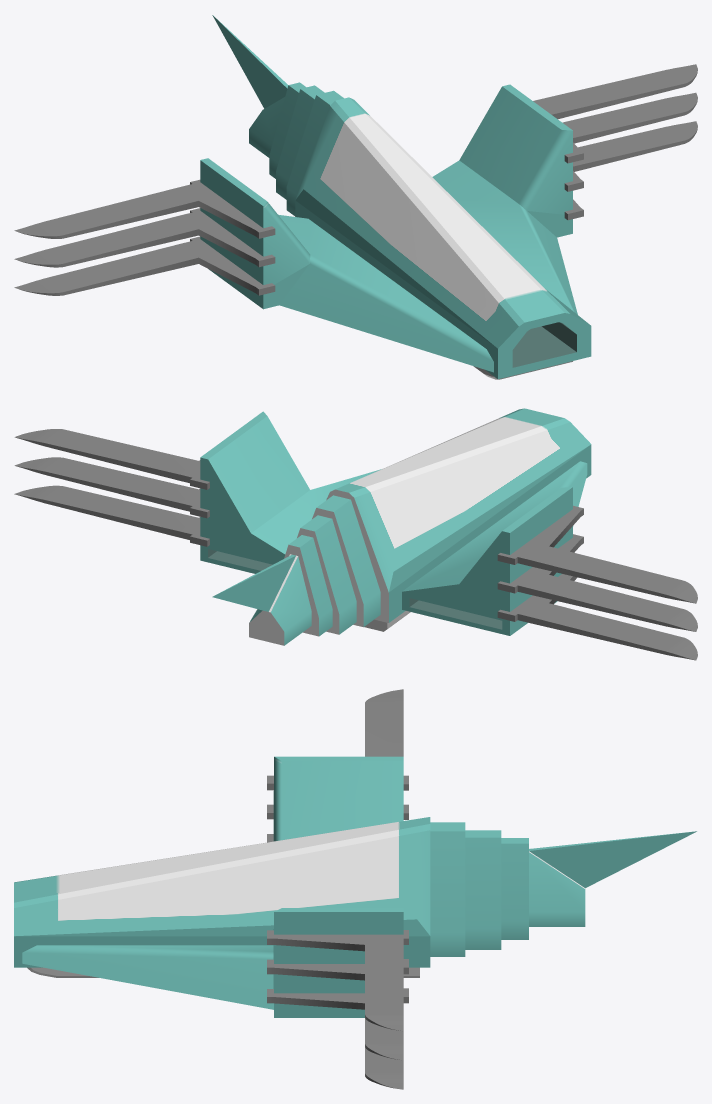
The model's file is fzerocar.fbx.
The picture shows the model from 3 angles, top to bottom: view 1: azimuth 30°, elevation 25°; view 2: azimuth 150°, elevation 25°; view 3: azimuth 270°, elevation 25°; orthographic projection. The views are drawn at different scales.
Visible parts, largest first — view 1: fzerocar, wepR, wepL; view 2: fzerocar, wepR, wepL; view 3: fzerocar, wepL, wepR.
Boxes of the visible parts, x1=… form: fzerocar: x1=200, y1=15, x2=591, y2=379; wepR: x1=14, y1=179, x2=275, y2=295; wepL: x1=533, y1=64, x2=697, y2=220; fzerocar: x1=200, y1=408, x2=591, y2=645; wepR: x1=497, y1=505, x2=697, y2=660; wepL: x1=14, y1=429, x2=209, y2=546; fzerocar: x1=14, y1=756, x2=696, y2=1017; wepL: x1=267, y1=930, x2=408, y2=1089; wepR: x1=267, y1=689, x2=408, y2=842.
Size of the model in its own units: 7.3 by 1.39 by 6.16.
Materials: 1 (1 with a texture image).
